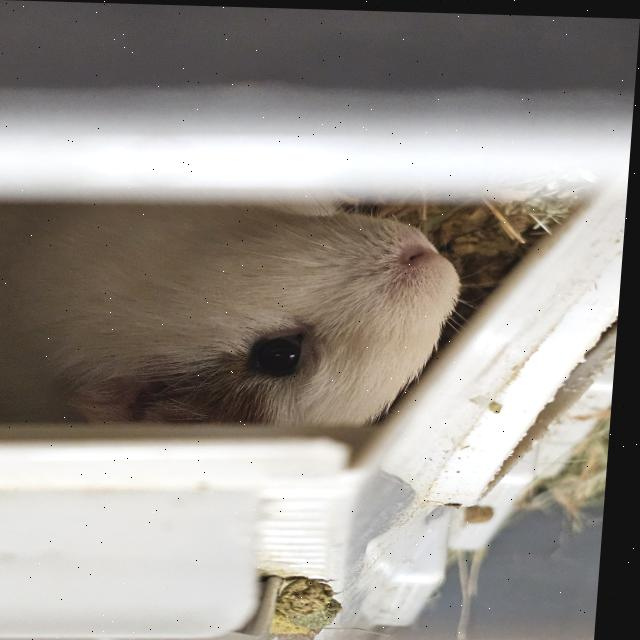guinea pig: (0, 197, 471, 451)
